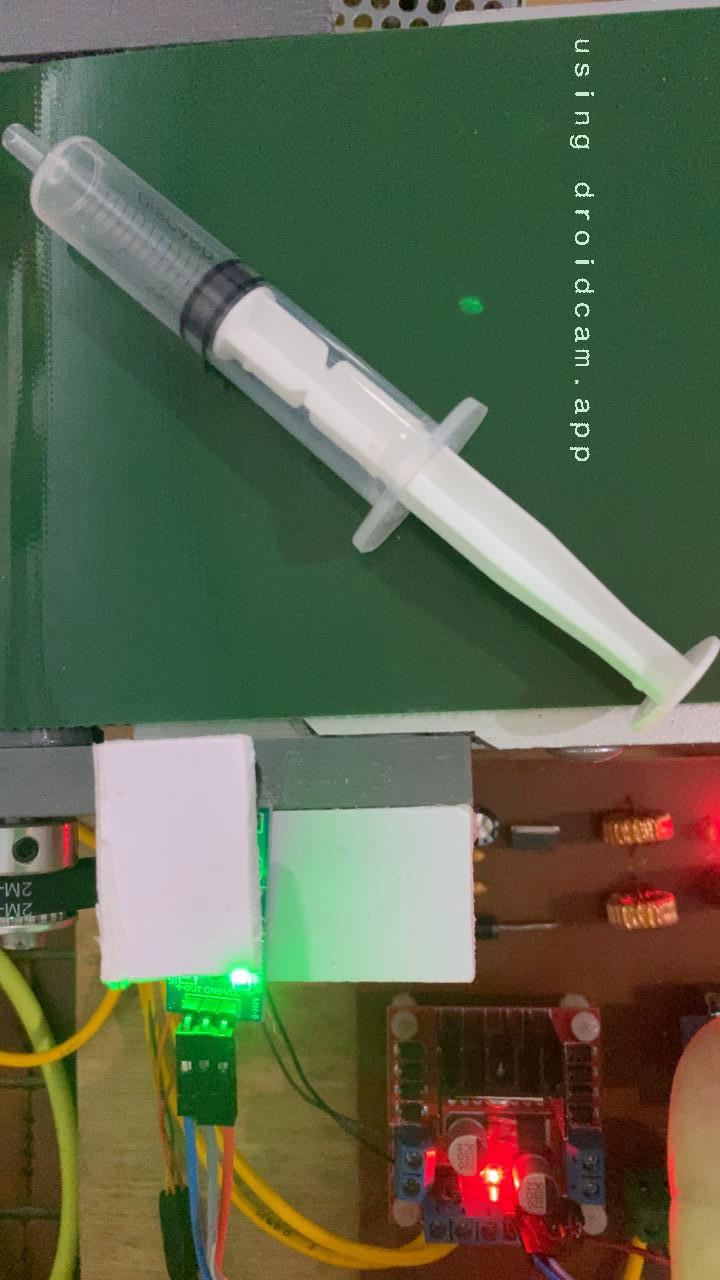syringe: (0, 71, 720, 717)
